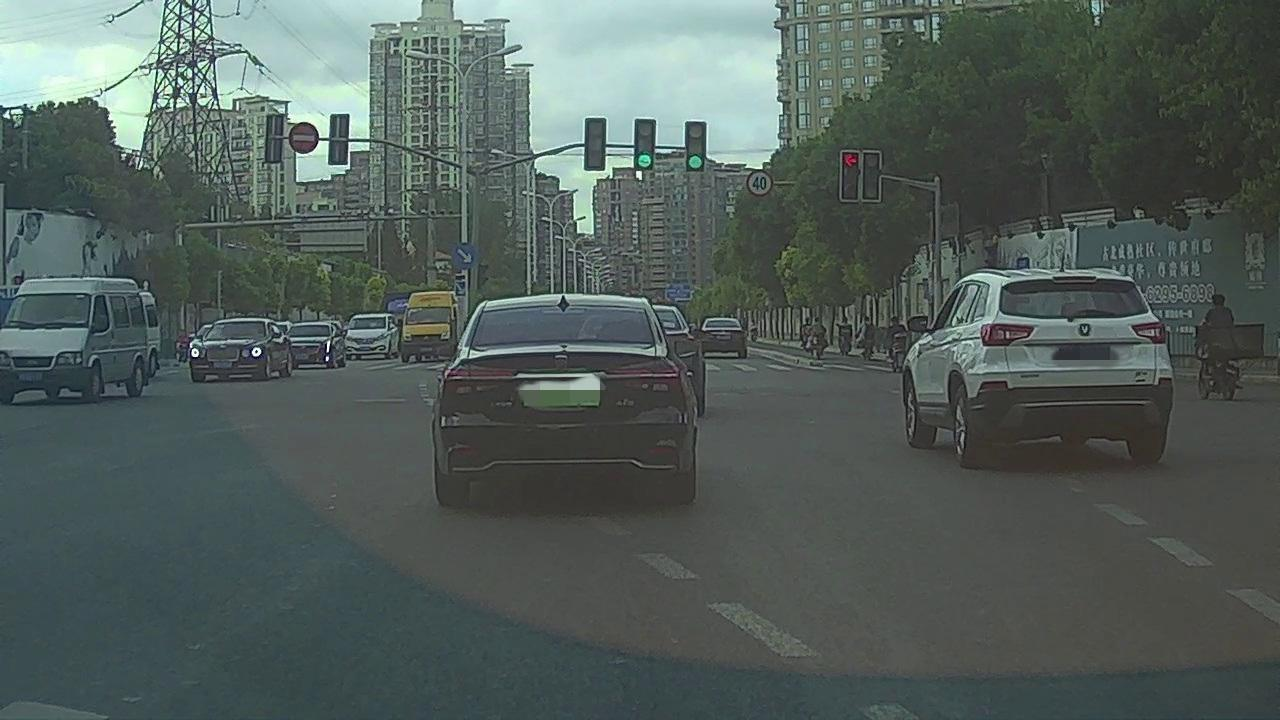traffic_light: (687, 123, 706, 172), (841, 152, 860, 201), (585, 120, 604, 168), (637, 120, 654, 168), (864, 150, 879, 200)
